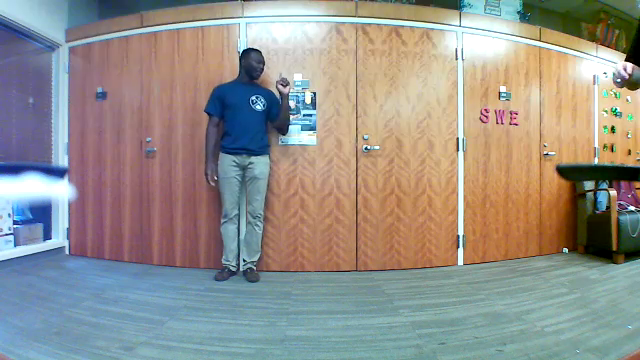up: (273, 69, 294, 99)
